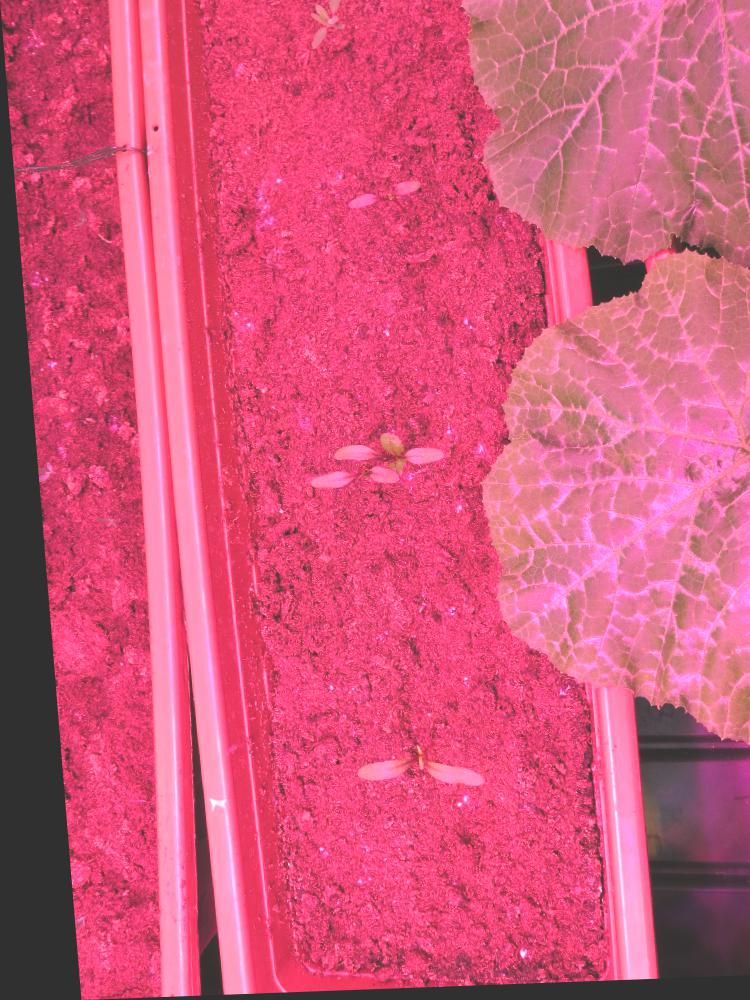crop: (339, 741, 471, 798), (339, 176, 418, 213)
weed: (305, 0, 346, 52)
